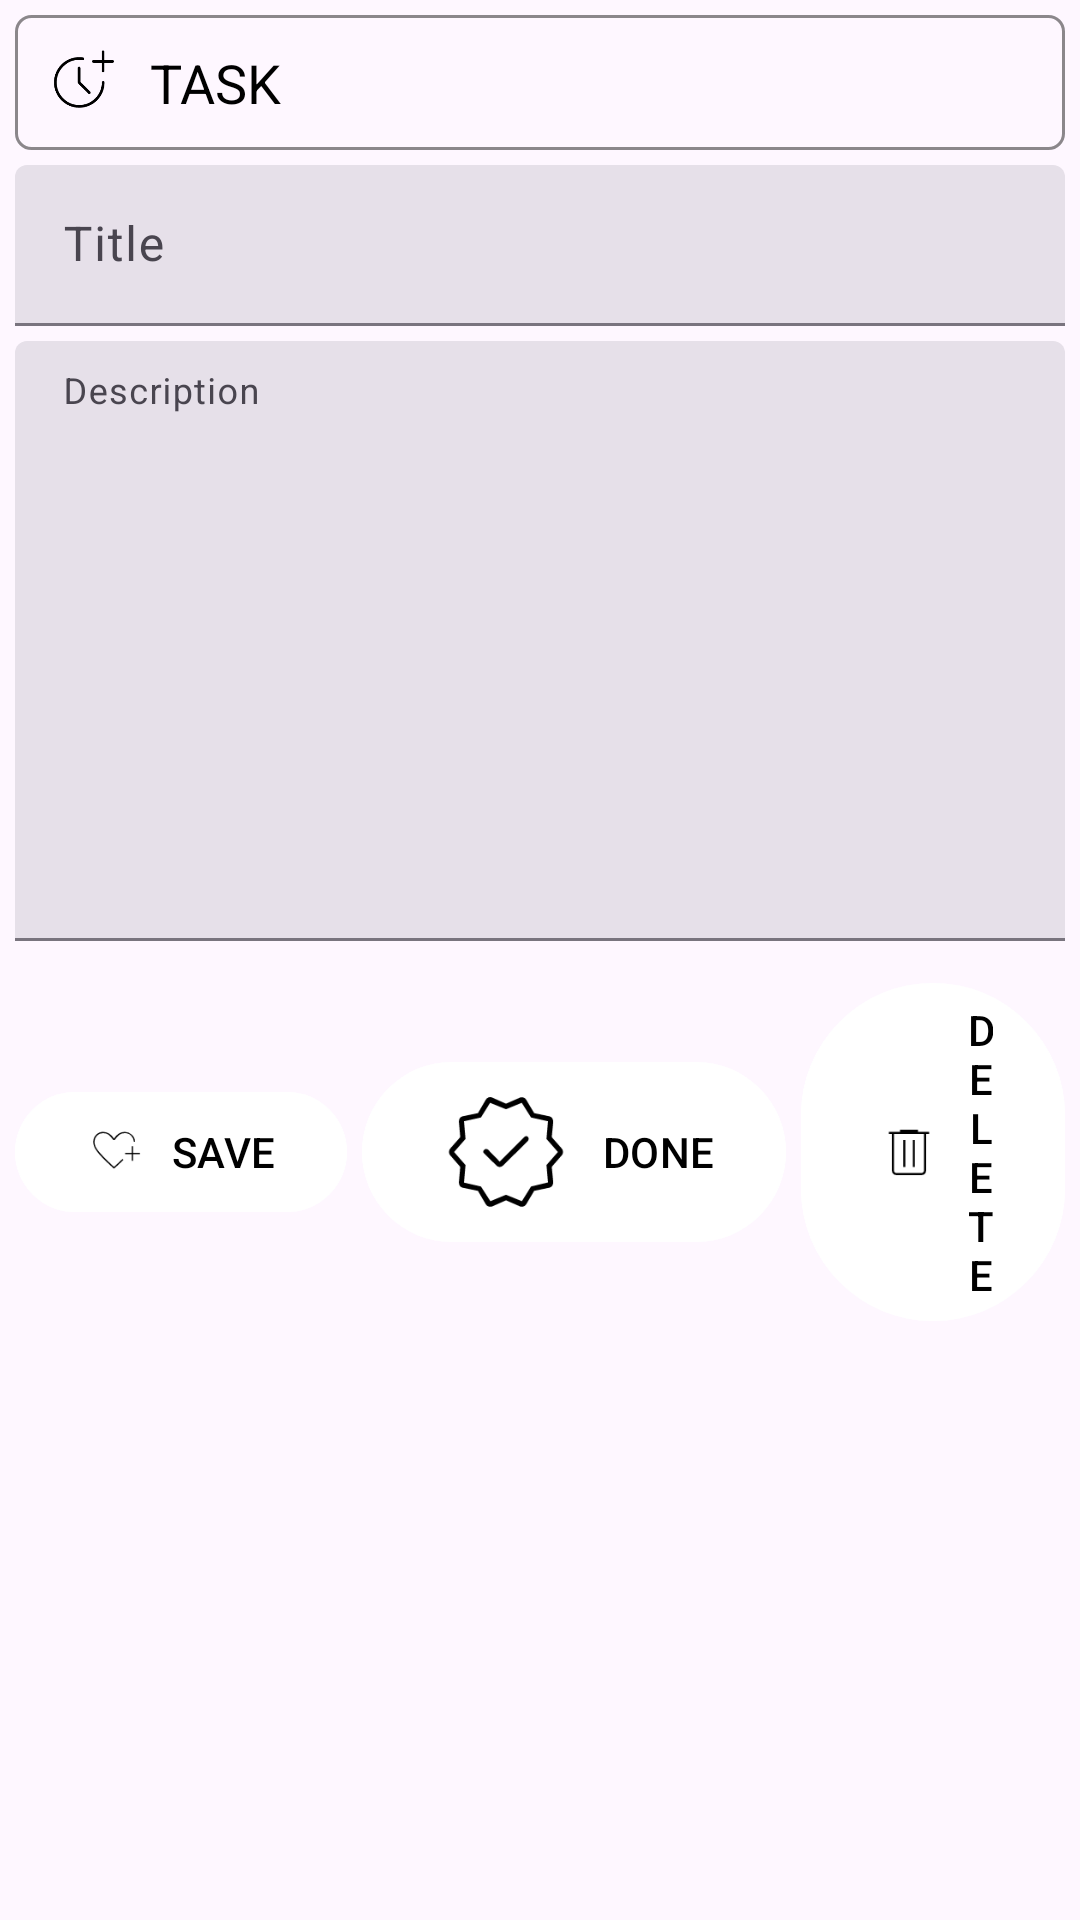

Screen size 1080w x 1920h. Icon name, then its center in pixels as (x,y):
more time: (84,79)
